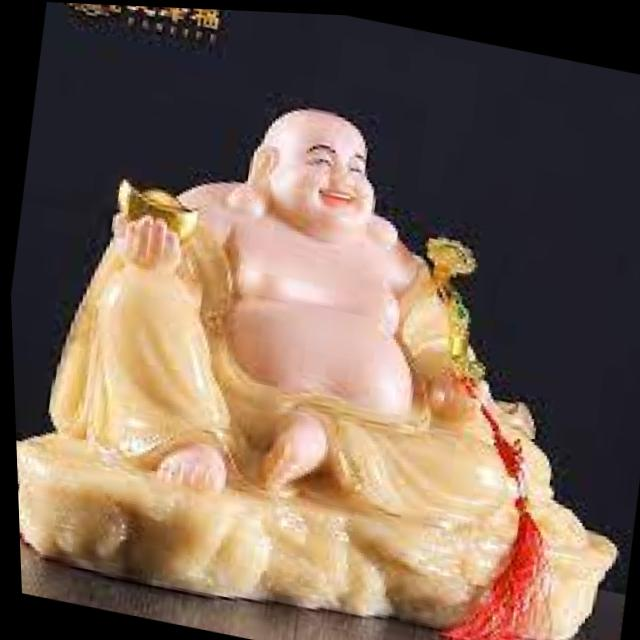Smiling Buddha: (79, 63, 510, 530)
